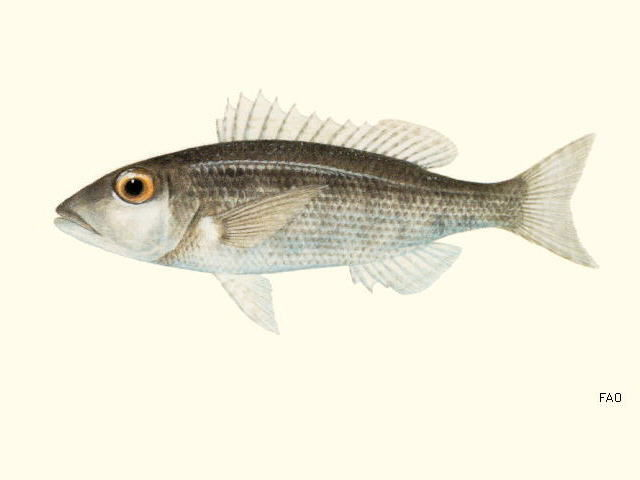fish: (55, 90, 601, 336)
